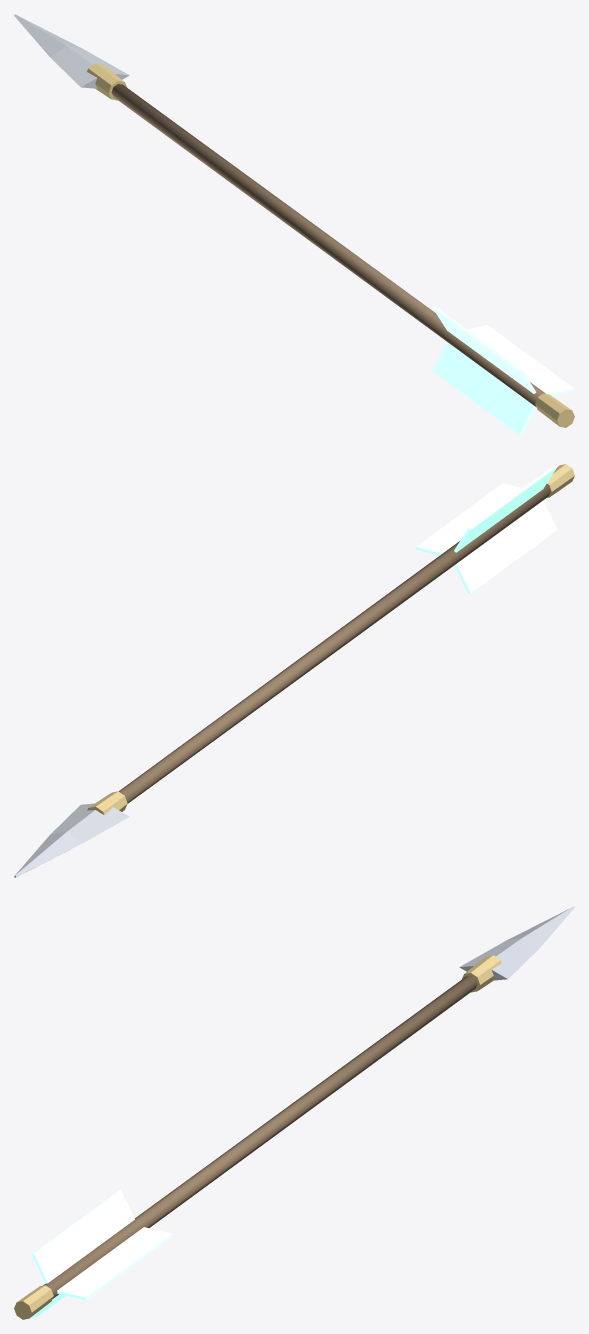
Rendered from Ranger_Arrow.fbx.
3 renders of one model, top to bottom at view 1: azimuth 30°, elevation 25°; view 2: azimuth 150°, elevation 25°; view 3: azimuth 330°, elevation 25°, orthographic.
Visible parts, largest first — view 1: RangerArrow_Shaft, RangerArrow_Fletching, RangerArrow_Broadhead, RangerArrow_Collar; view 2: RangerArrow_Shaft, RangerArrow_Fletching, RangerArrow_Broadhead, RangerArrow_Collar; view 3: RangerArrow_Shaft, RangerArrow_Fletching, RangerArrow_Broadhead, RangerArrow_Collar.
Part boxes in pixels (bbox=[...]): RangerArrow_Shaft: bbox=[111, 84, 545, 406]; RangerArrow_Fletching: bbox=[433, 306, 574, 435]; RangerArrow_Broadhead: bbox=[14, 14, 129, 88]; RangerArrow_Collar: bbox=[87, 63, 574, 427]; RangerArrow_Shaft: bbox=[118, 484, 550, 803]; RangerArrow_Fletching: bbox=[416, 464, 557, 593]; RangerArrow_Broadhead: bbox=[14, 803, 129, 877]; RangerArrow_Collar: bbox=[87, 464, 574, 814]; RangerArrow_Shaft: bbox=[43, 975, 477, 1298]; RangerArrow_Fletching: bbox=[31, 1190, 172, 1319]; RangerArrow_Broadhead: bbox=[459, 906, 574, 980]; RangerArrow_Collar: bbox=[14, 955, 501, 1319].
Size of the model in its own units: 0.054 by 0.0567 by 0.855.
